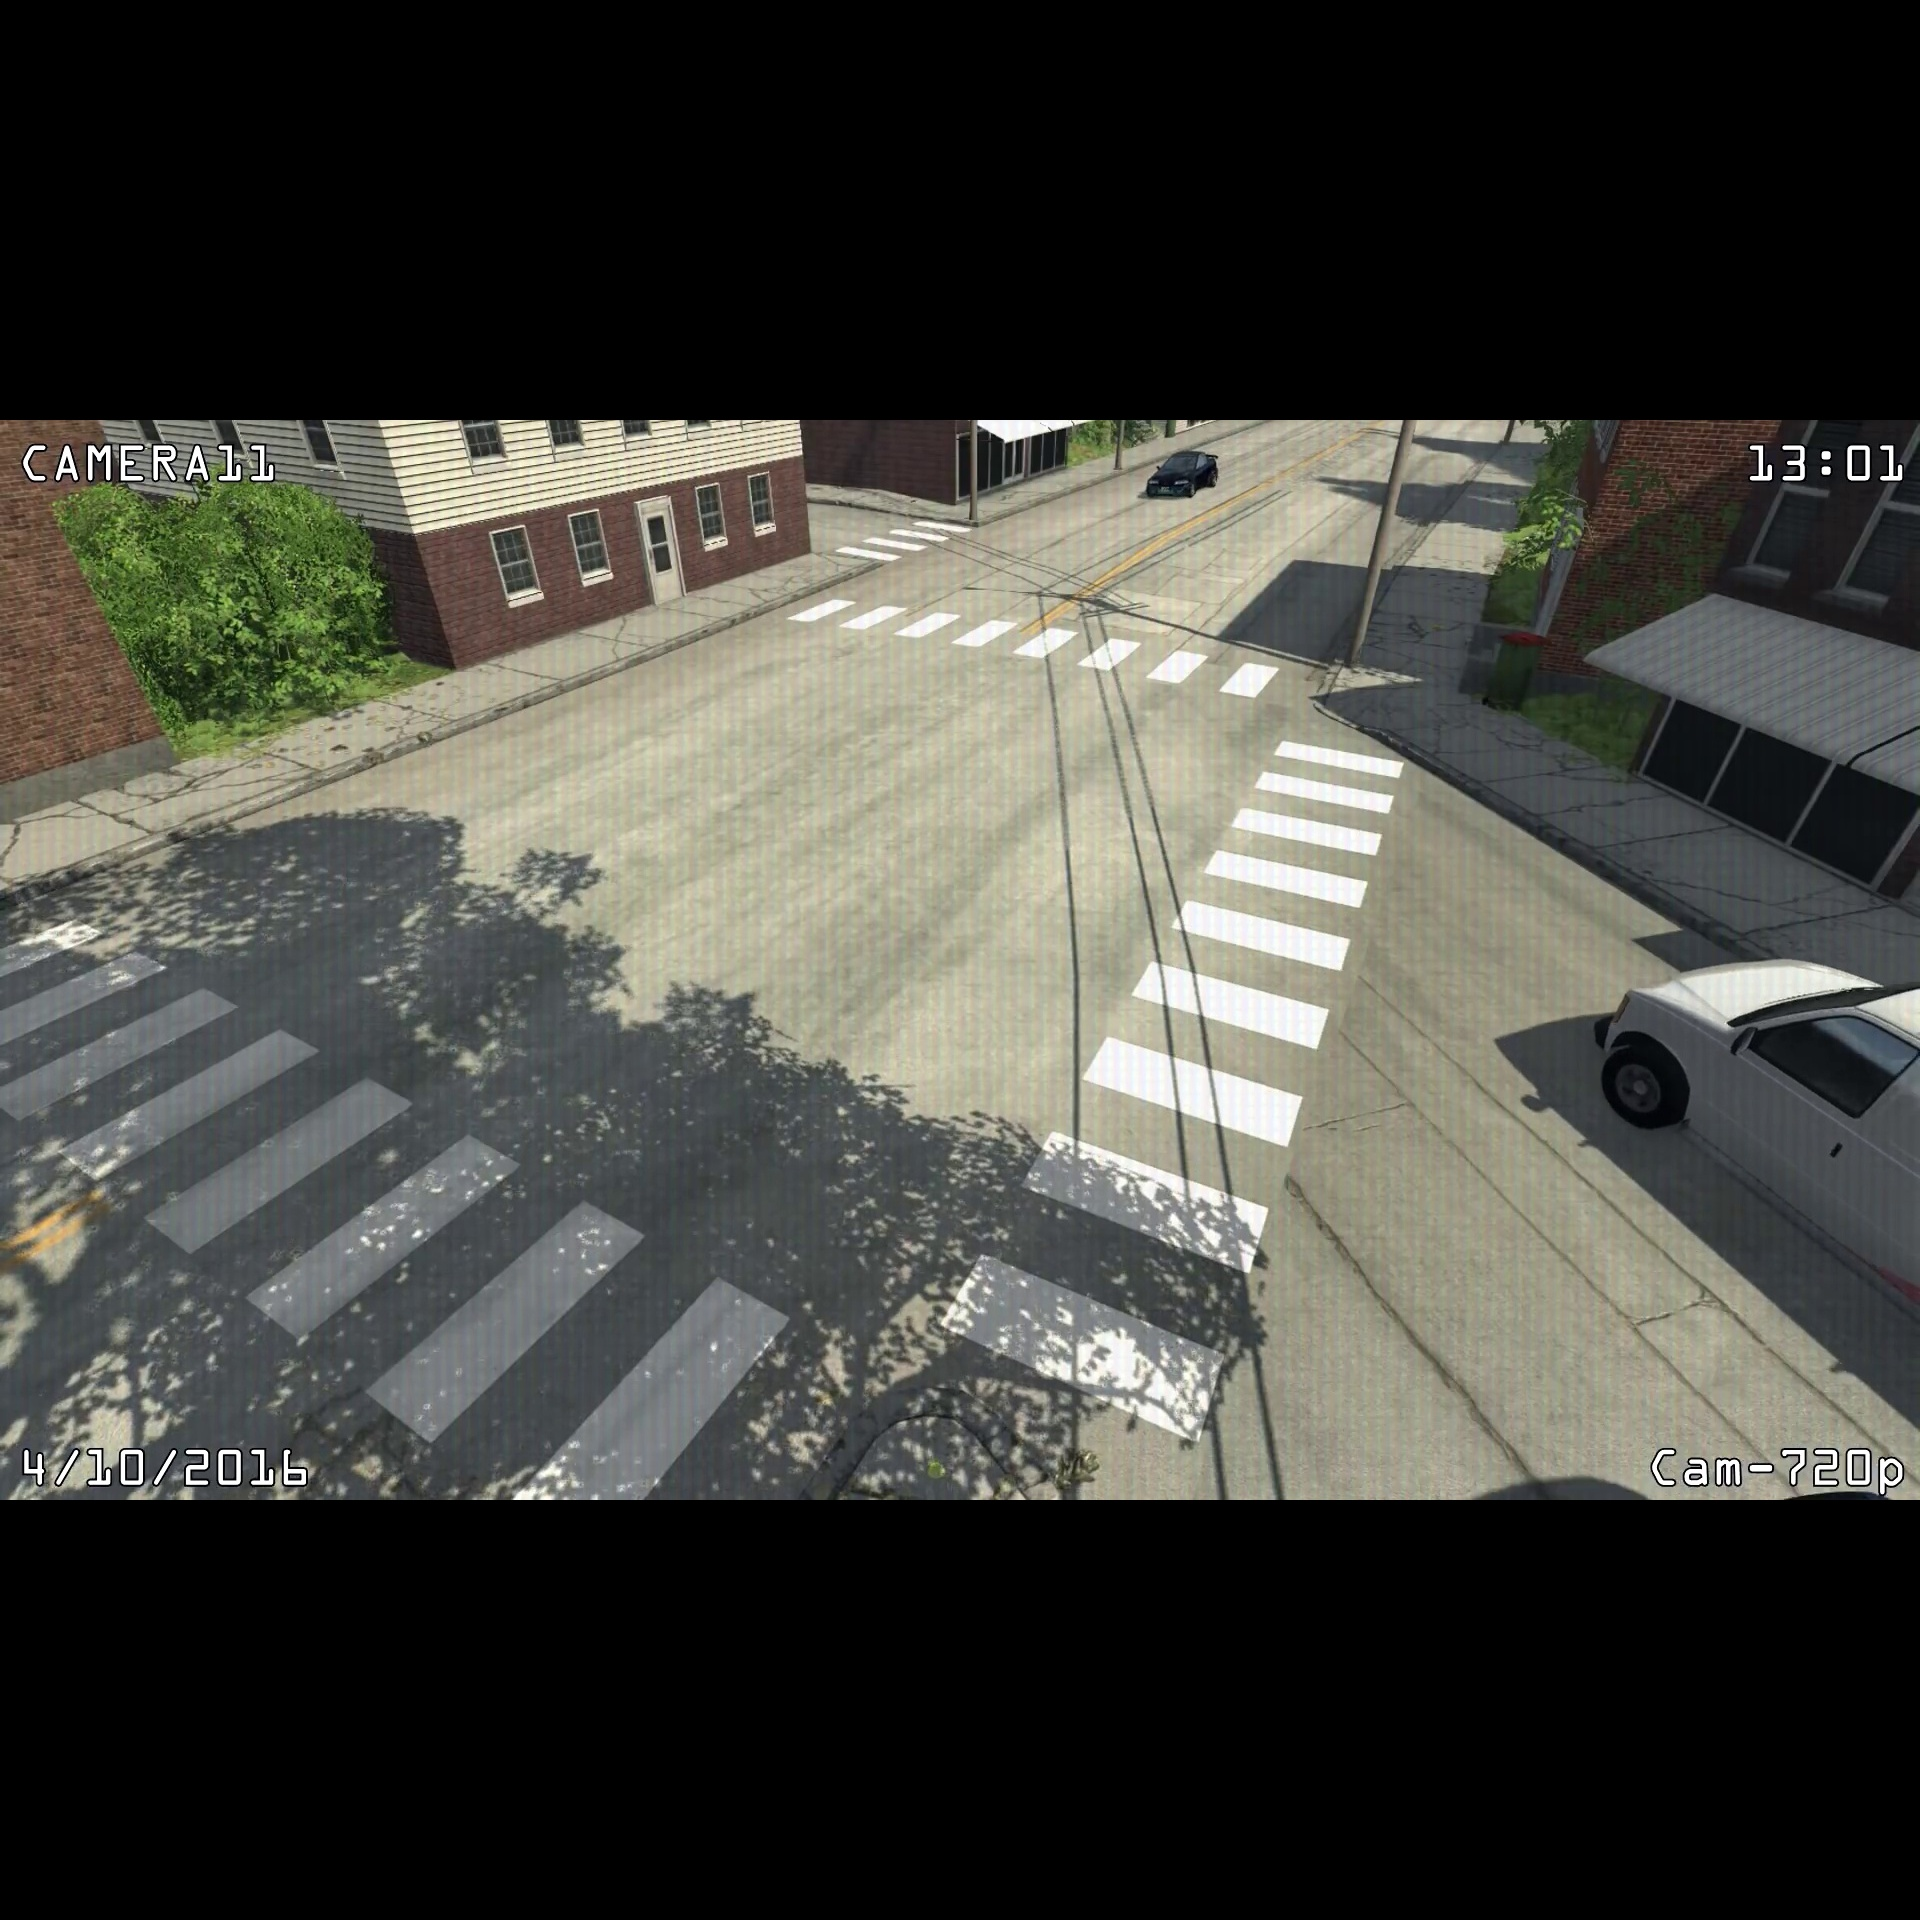vehicle: (1589, 948, 1920, 1303), (1143, 441, 1225, 506)
